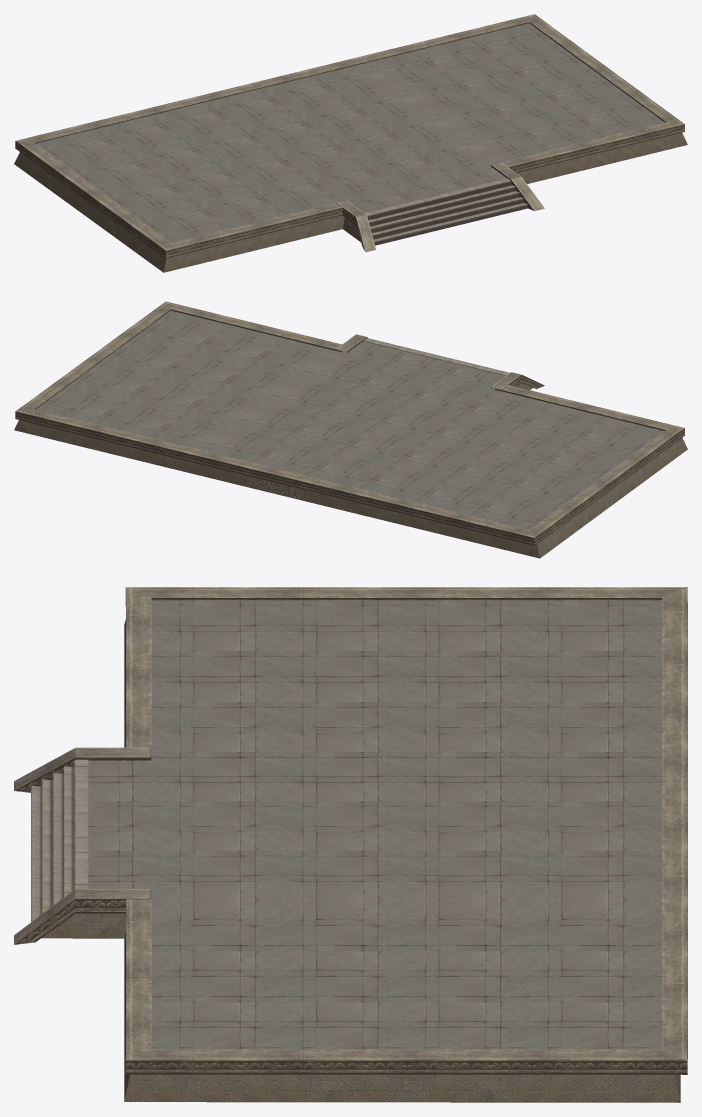
Rendered from cj_luoyang_dizhuo03_55_54_2705out.fbx.
The picture shows the model from 3 angles, top to bottom: view 1: azimuth 30°, elevation 25°; view 2: azimuth 150°, elevation 25°; view 3: azimuth 270°, elevation 25°; orthographic projection. The views are drawn at different scales.
Parts seen in each view (by area): view 1: 0000_cj_luoyang_dizhuo03, 0001_cj_luoyang_dizhuo03; view 2: 0000_cj_luoyang_dizhuo03, 0001_cj_luoyang_dizhuo03; view 3: 0000_cj_luoyang_dizhuo03, 0001_cj_luoyang_dizhuo03.
Boxes of the visible parts, x1=… form: 0000_cj_luoyang_dizhuo03: x1=14, y1=14, x2=687, y2=272; 0001_cj_luoyang_dizhuo03: x1=365, y1=178, x2=527, y2=245; 0000_cj_luoyang_dizhuo03: x1=14, y1=301, x2=687, y2=558; 0001_cj_luoyang_dizhuo03: x1=363, y1=338, x2=509, y2=375; 0000_cj_luoyang_dizhuo03: x1=14, y1=587, x2=687, y2=1102; 0001_cj_luoyang_dizhuo03: x1=31, y1=759, x2=88, y2=921.
Bounding box in the file's own units: 17.97 × 0.701 × 10.68.
